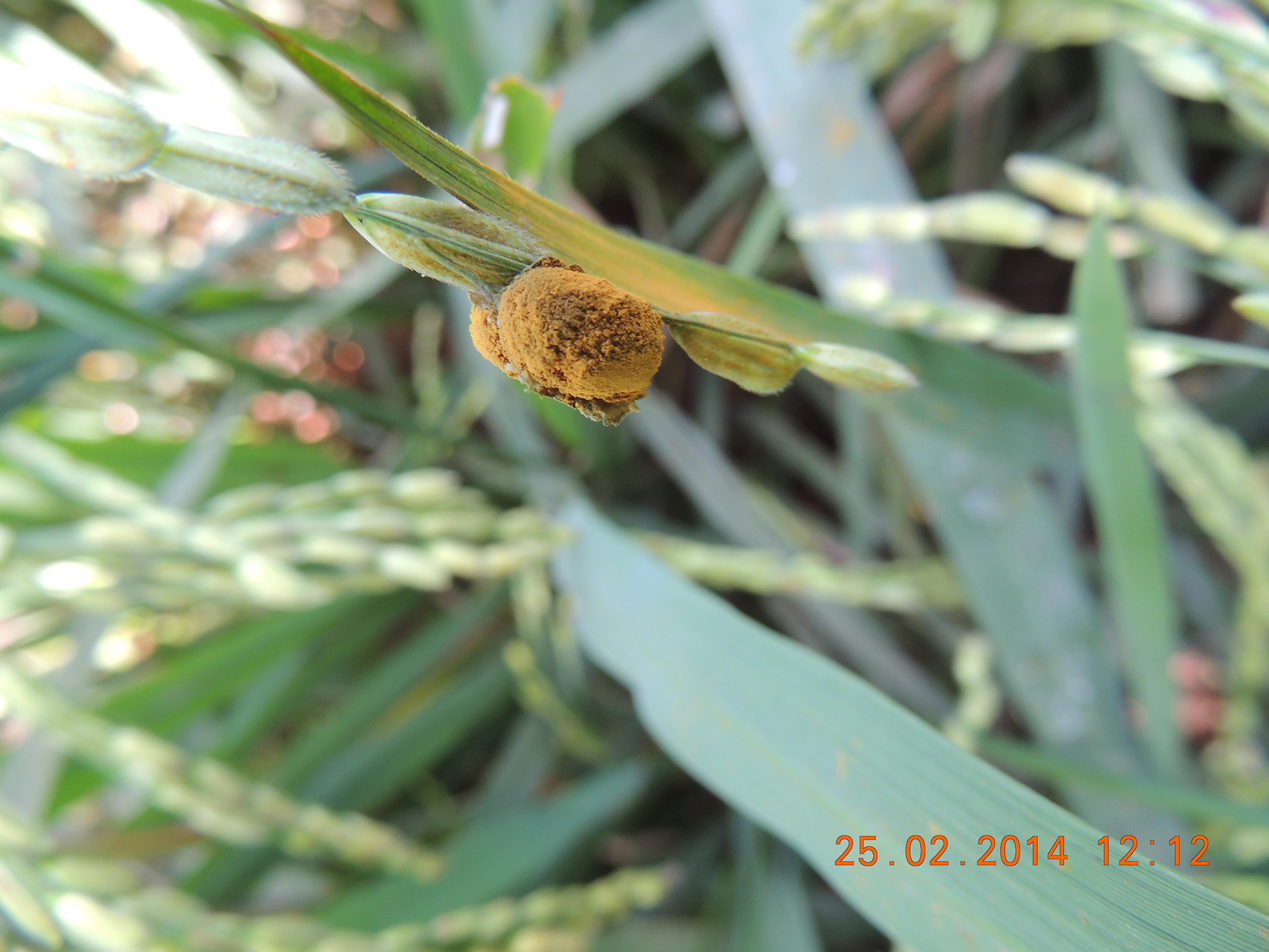False Smut: (471, 251, 669, 435)
